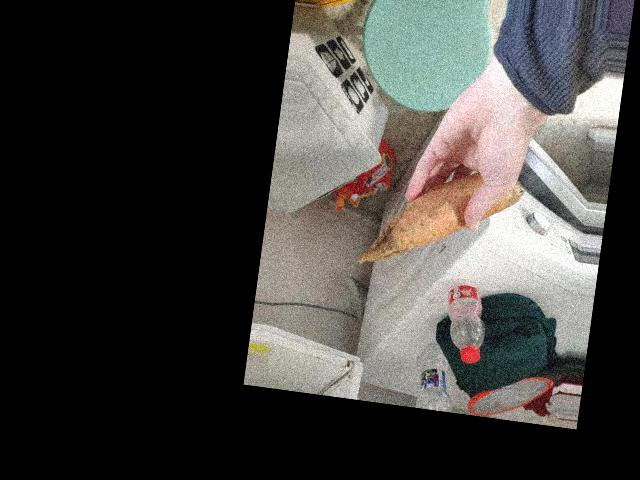sweet_potato: (400, 168, 496, 261)
